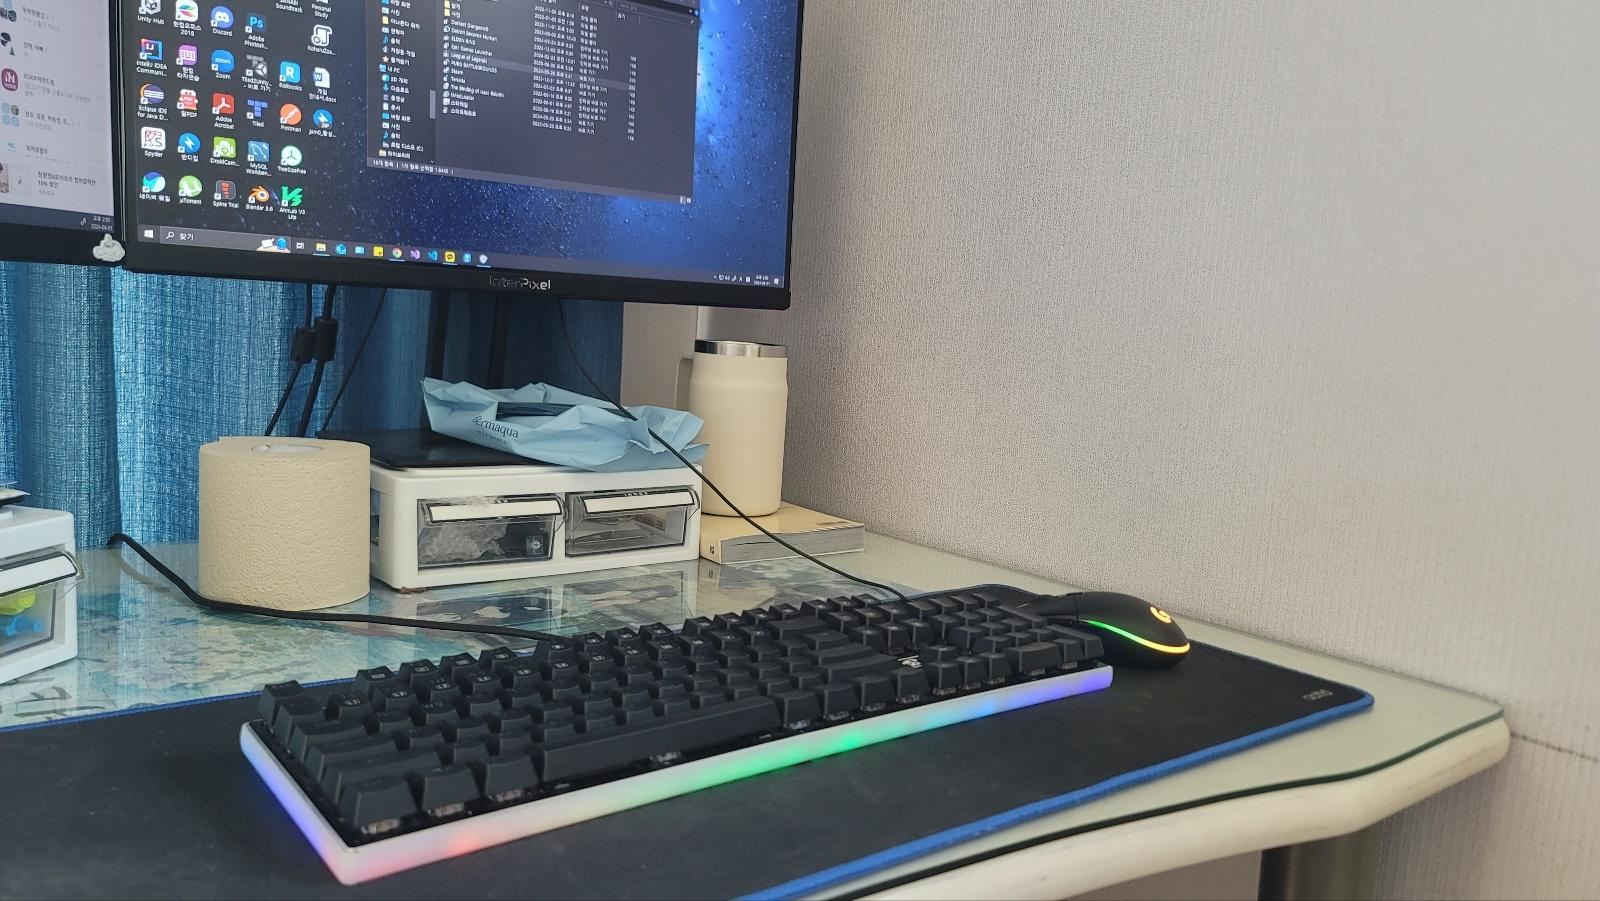keyboard: (238, 580, 1113, 883)
mouse: (1018, 588, 1191, 669)
